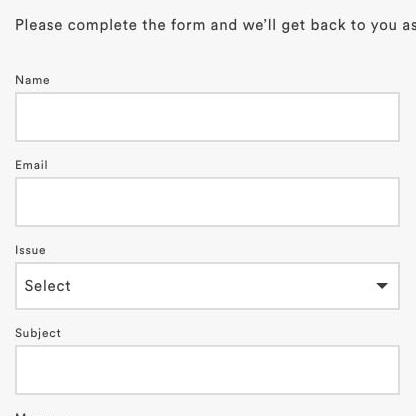field: (13, 90, 399, 144), (13, 343, 399, 395), (13, 176, 401, 226), (14, 261, 400, 310)
field_with_label: (10, 71, 405, 146), (8, 324, 402, 398), (9, 158, 405, 230), (11, 243, 404, 313)
